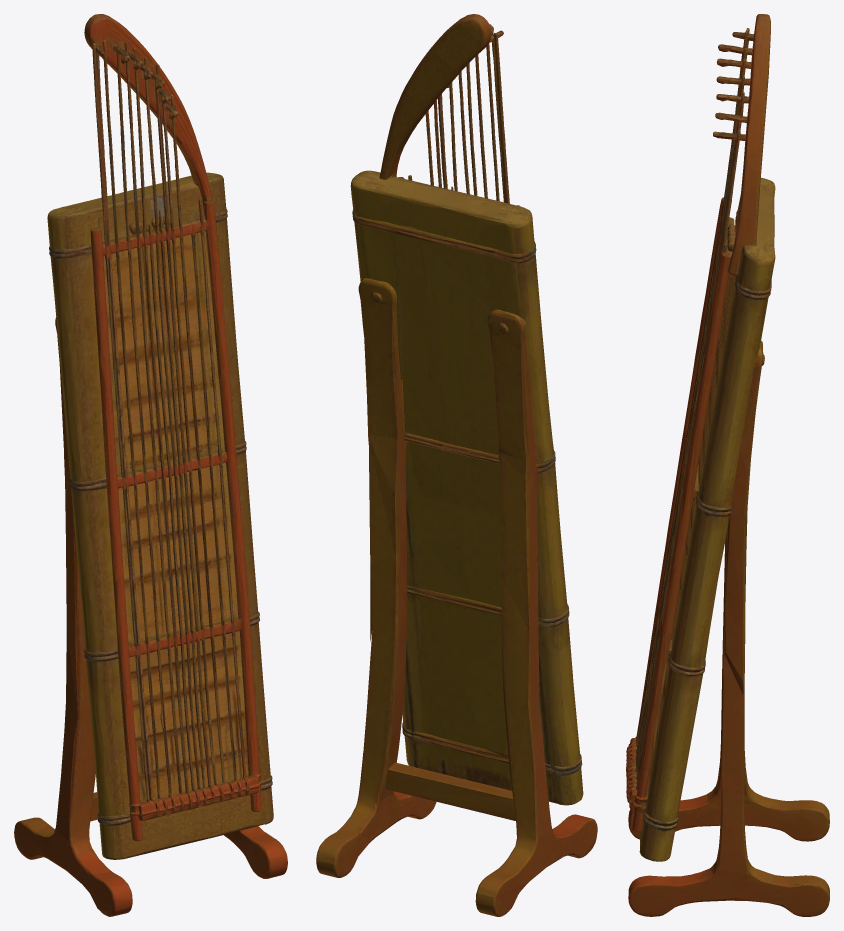
File: valiha.glb
3 views of the same model, side by side, from view 1: azimuth 30°, elevation 25°; view 2: azimuth 150°, elevation 25°; view 3: azimuth 270°, elevation 25° (orthographic). The views are drawn at different scales.
Size of the model in its own units: 0.4118 by 1.9 by 0.417.
Materials: 1 (1 with a texture image).
